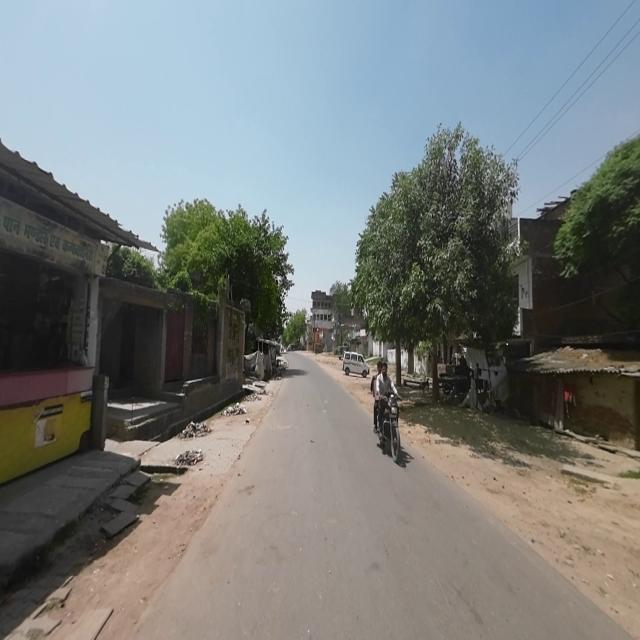Garbage: (174, 449, 206, 466), (181, 421, 210, 439), (223, 403, 248, 416), (244, 394, 262, 402)
